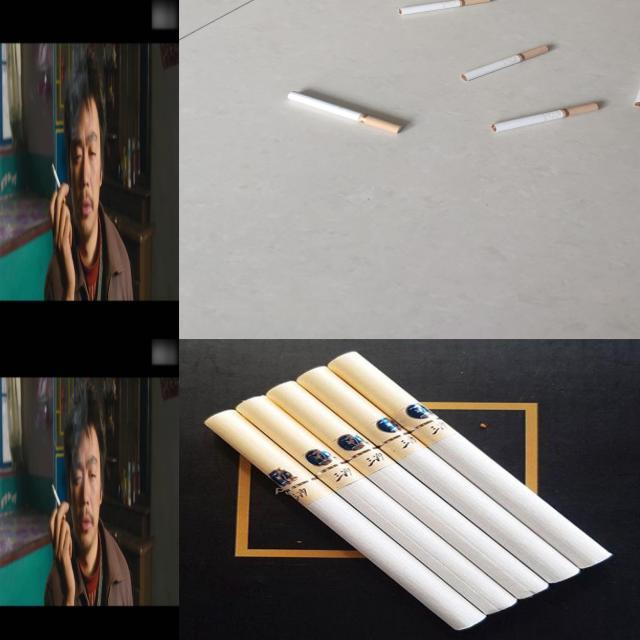smoking: (204, 408, 488, 630), (265, 381, 551, 600), (295, 366, 582, 584), (236, 395, 519, 616), (327, 351, 614, 568), (287, 91, 407, 135), (460, 44, 550, 82), (492, 102, 600, 133), (398, 0, 492, 16), (50, 481, 68, 524), (51, 161, 66, 203)
